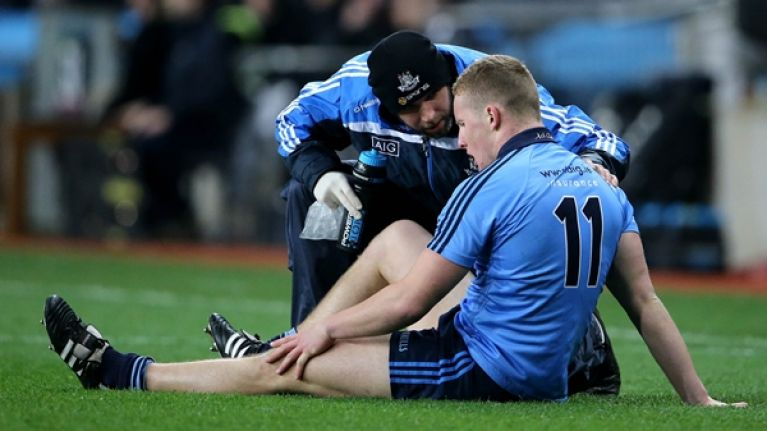player: (412, 53, 646, 394), (313, 23, 481, 211)
